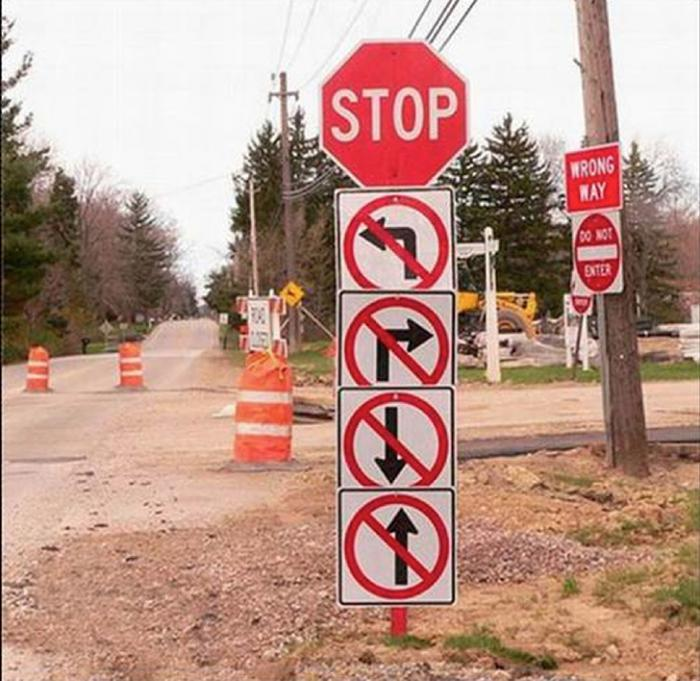Pole: (594, 295, 615, 470)
Sign: (319, 37, 470, 189)
